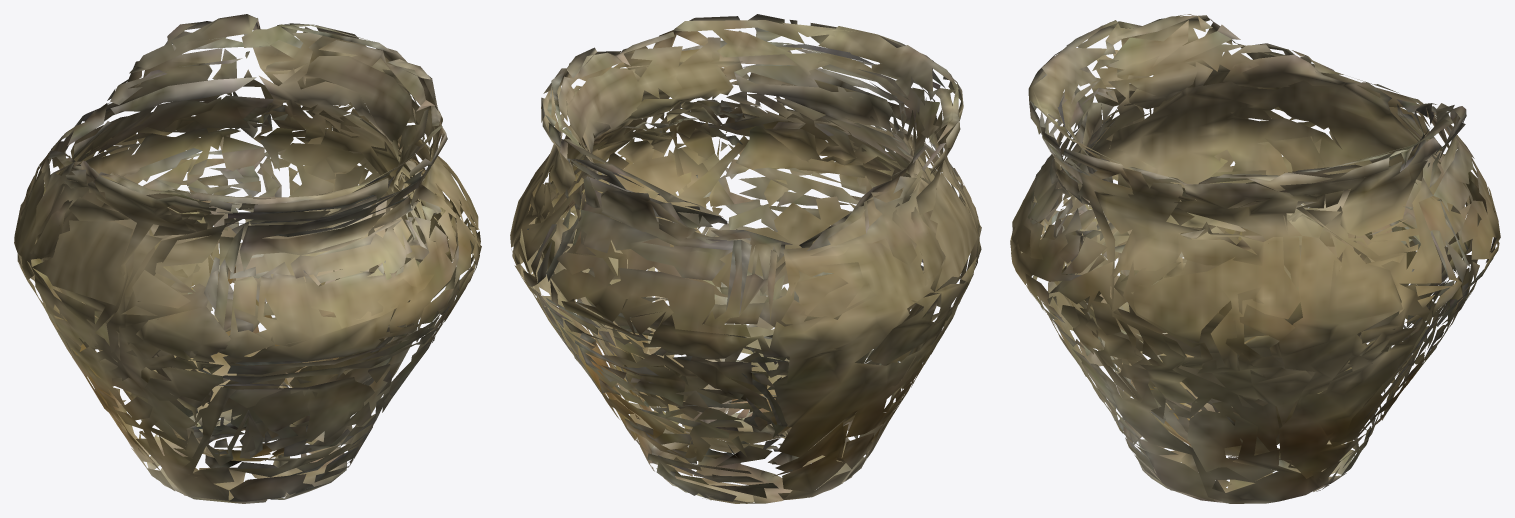
Rendered from hm-incised-groove-food-vessel.lod1.glb.
3 renders of one model, left to right at view 1: azimuth 30°, elevation 25°; view 2: azimuth 150°, elevation 25°; view 3: azimuth 270°, elevation 25°, orthographic. The views are drawn at different scales.
Visible parts, largest first — view 1: Object_5, Object_4, Object_2, Object_3, Object_6, Object_7, Object_8; view 2: Object_2, Object_3, Object_4, Object_5, Object_6, Object_7, Object_8; view 3: Object_3, Object_2, Object_5, Object_4, Object_6, Object_7, Object_8.
Part boxes in pixels (x1,y1,x2,y2): Object_5: (32, 14, 479, 479); Object_4: (30, 21, 480, 501); Object_2: (14, 18, 480, 500); Object_3: (19, 22, 481, 503); Object_6: (19, 32, 475, 482); Object_7: (112, 48, 474, 483); Object_8: (175, 42, 459, 466); Object_2: (512, 16, 979, 492); Object_3: (510, 22, 981, 503); Object_4: (511, 14, 976, 491); Object_5: (514, 20, 981, 503); Object_6: (517, 37, 978, 501); Object_7: (514, 27, 957, 498); Object_8: (546, 100, 952, 479); Object_3: (1011, 14, 1500, 478); Object_2: (1027, 15, 1499, 503); Object_5: (1010, 15, 1497, 491); Object_4: (1011, 22, 1489, 503); Object_6: (1031, 24, 1497, 501); Object_7: (1041, 20, 1472, 455); Object_8: (1053, 55, 1469, 491).
Bounding box in the file's own units: 0.1525 × 0.1294 × 0.1526.
1 material, 1 textured.
